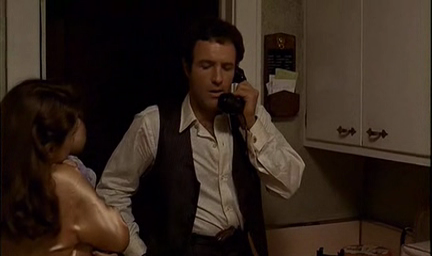face: (194, 53, 235, 105)
ms: (1, 1, 432, 256)
person: (95, 18, 306, 256)
